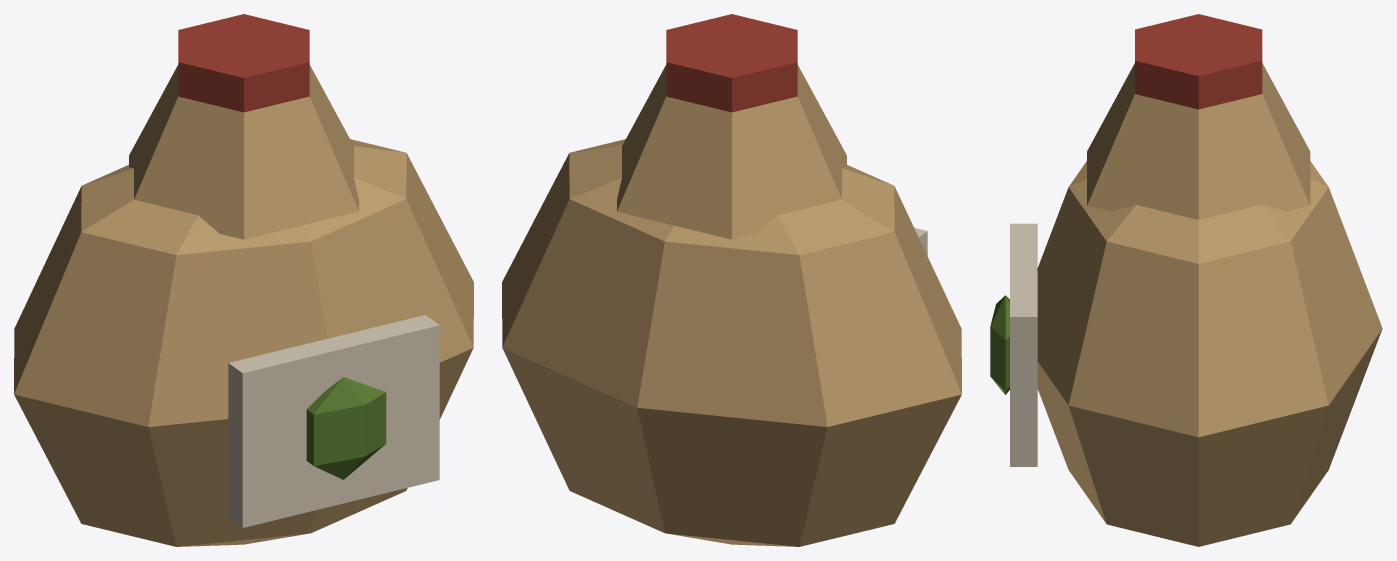
Rendered from seed_bag.glb.
3 renders of one model, left to right at view 1: azimuth 30°, elevation 25°; view 2: azimuth 150°, elevation 25°; view 3: azimuth 270°, elevation 25°, orthographic. The views are drawn at different scales.
Visible parts, largest first — view 1: body; view 2: body; view 3: body.
Boxes of the visible parts, box(x1,y1,x2,y2) form: body: box(14, 14, 473, 546); body: box(502, 14, 961, 546); body: box(990, 14, 1382, 546).
Size of the model in its own units: 0.28 by 0.29 by 0.2132.
